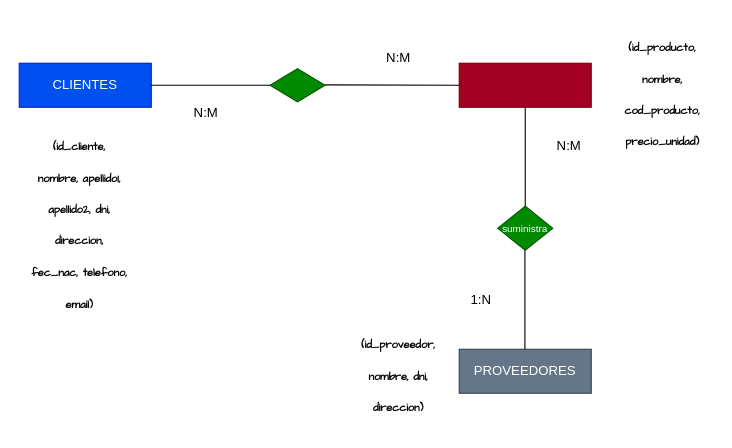
This 732x448 diagram has some shape labels left out. The centre of each missing label's shape, as x and y in pixels:
"compra" belongs at (x=297, y=85).
"PRODUCTOS" belongs at (x=524, y=84).
